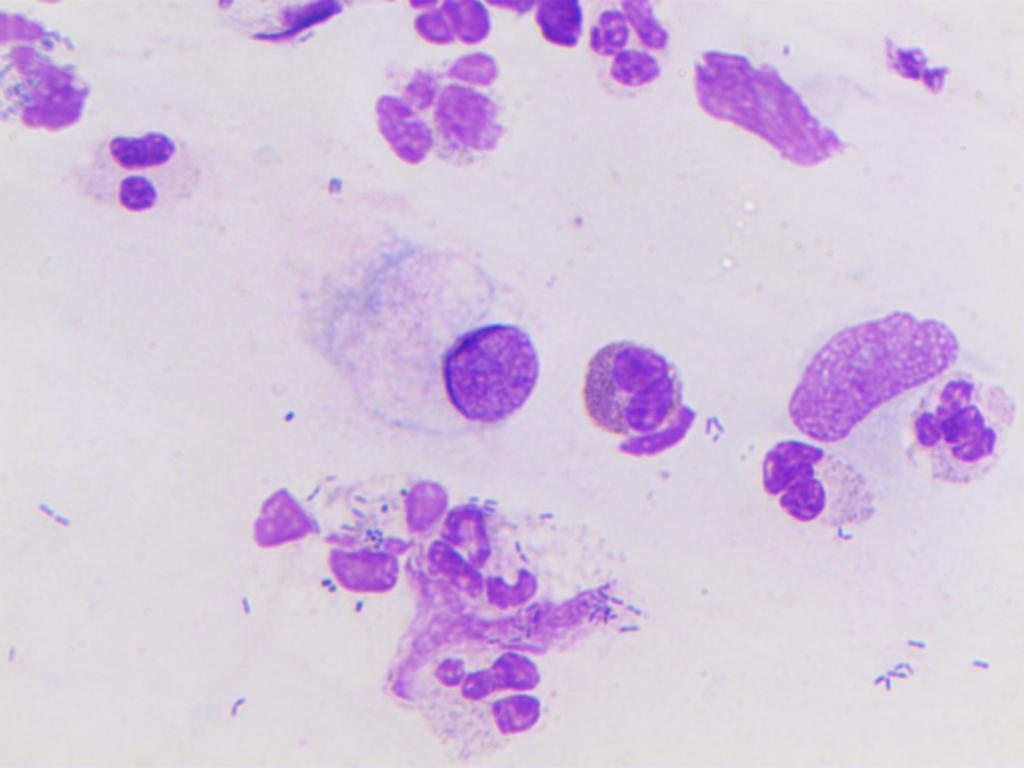artifact: (692, 40, 854, 174), (0, 8, 91, 127), (871, 30, 956, 103)
epithelial: (772, 292, 953, 443)
goblet_cell: (300, 238, 550, 445)
mast_cell: (579, 334, 699, 465)
neutrophil: (244, 457, 447, 595), (357, 46, 519, 180), (399, 634, 557, 767), (736, 440, 884, 548), (426, 504, 547, 616), (904, 372, 1019, 486), (71, 130, 214, 220), (584, 0, 677, 94), (400, 1, 506, 43)
